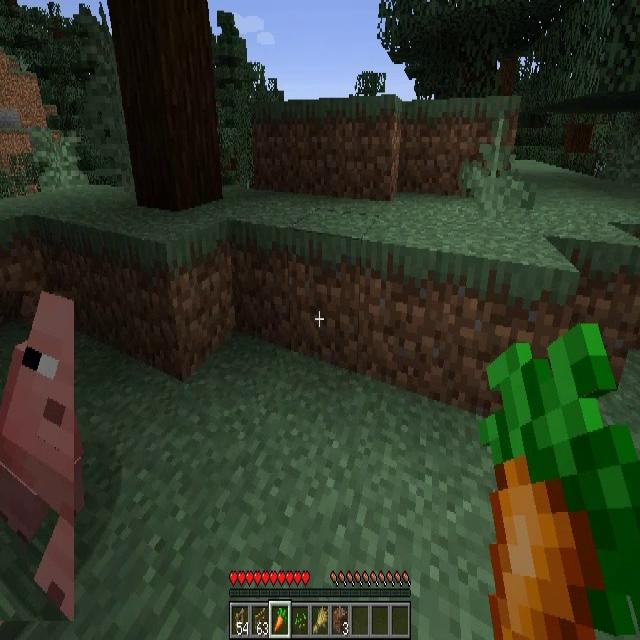pig: (0, 292, 74, 622)
